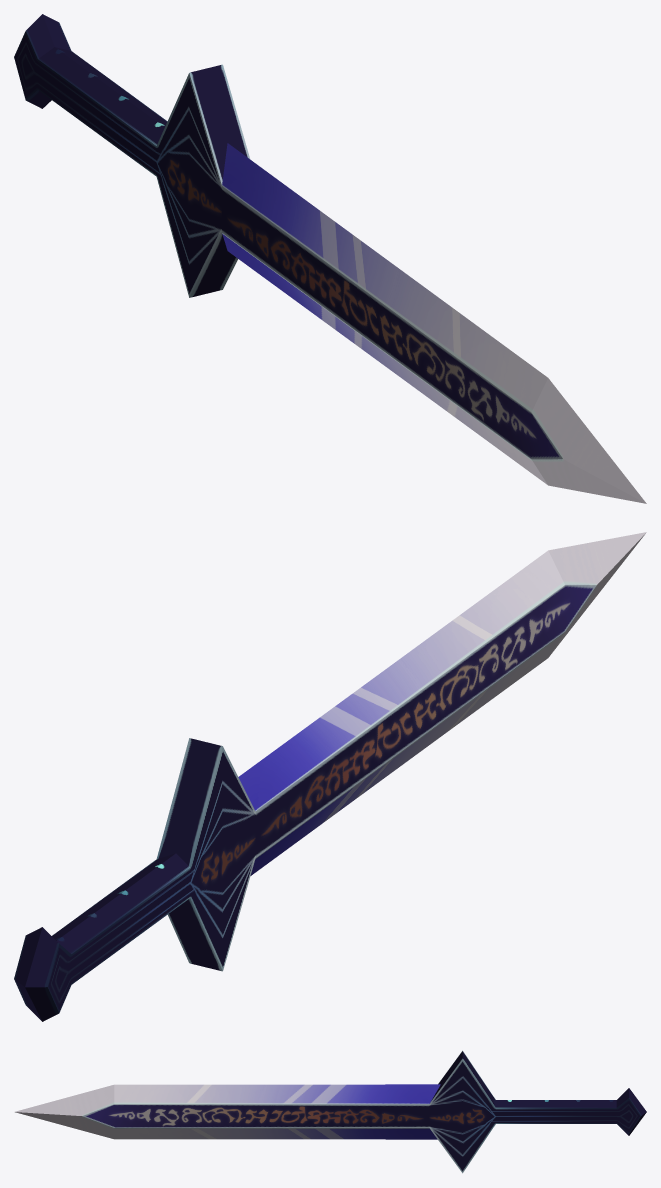
The model's file is Broadsword.fbx.
3 views of the same model, one above another, from view 1: azimuth 30°, elevation 25°; view 2: azimuth 150°, elevation 25°; view 3: azimuth 270°, elevation 25° (orthographic). The views are drawn at different scales.
Visible parts, largest first — view 1: Cube; view 2: Cube; view 3: Cube.
Part boxes in pixels (left/top/right/bottom): Cube: left=14, top=14, right=646, bottom=503; Cube: left=14, top=532, right=646, bottom=1021; Cube: left=15, top=1050, right=646, bottom=1173.
Bounding box in the file's own units: 2.5 × 16 × 80.05.
